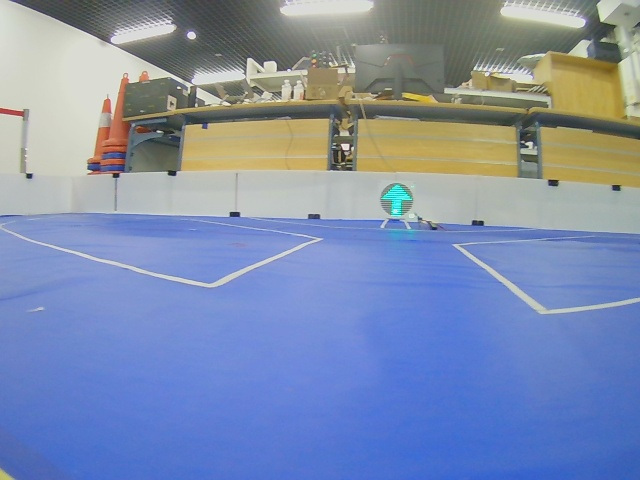straight_green: (380, 183, 413, 218)
